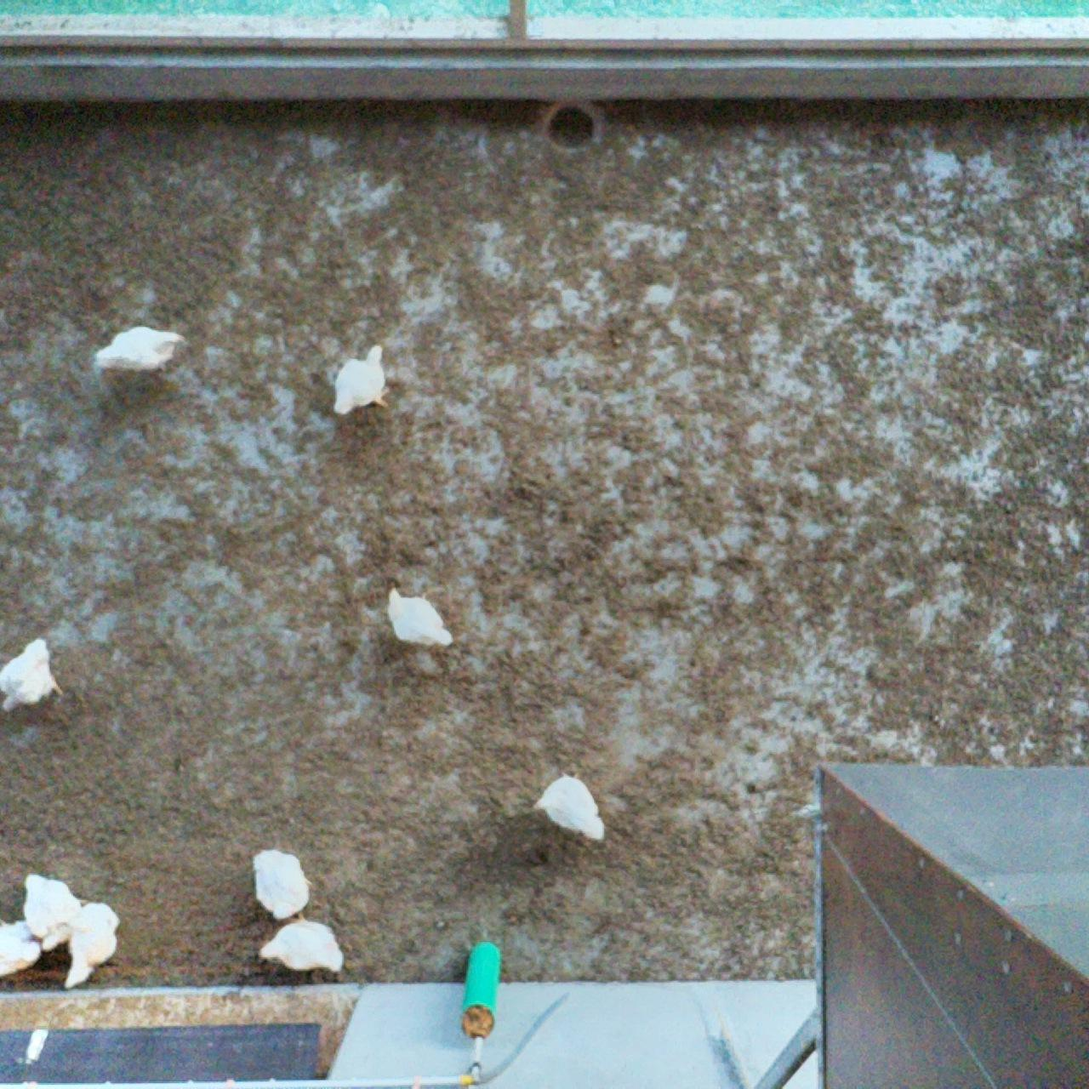chicken: (528, 766, 611, 848), (324, 340, 403, 419), (62, 898, 124, 993), (380, 579, 457, 655), (91, 321, 190, 379), (257, 917, 351, 978), (247, 847, 317, 923), (0, 634, 66, 714), (19, 870, 80, 942), (0, 916, 46, 982)
